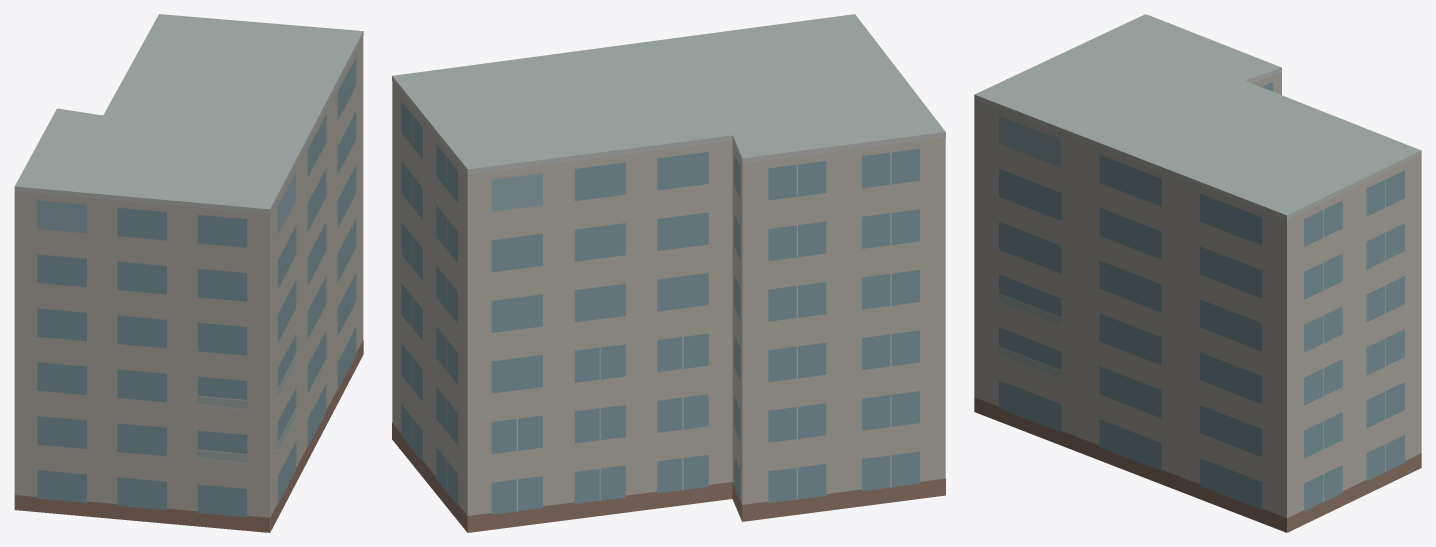
Rendered from survey-upis-32524280.glb.
3 views of the same model, side by side, from view 1: azimuth 30°, elevation 25°; view 2: azimuth 150°, elevation 25°; view 3: azimuth 270°, elevation 25° (orthographic). The views are drawn at different scales.
Parts seen in each view (by area): view 1: survey-upis-32524280.tmp; view 2: survey-upis-32524280.tmp; view 3: survey-upis-32524280.tmp.
Boxes of the visible parts, x1,y1,x2,y2 form: survey-upis-32524280.tmp: [14, 14, 363, 532]; survey-upis-32524280.tmp: [392, 14, 945, 532]; survey-upis-32524280.tmp: [974, 14, 1421, 532].
Bounding box in the file's own units: 22.47 × 16.5 × 21.07.
